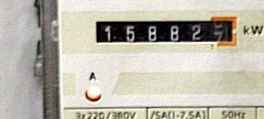1: (102, 24, 112, 43)
2: (190, 24, 201, 42)
5: (124, 26, 135, 43)
7: (212, 31, 223, 43)
8: (145, 25, 157, 42), (168, 25, 179, 43)
screen: (86, 11, 242, 55)
